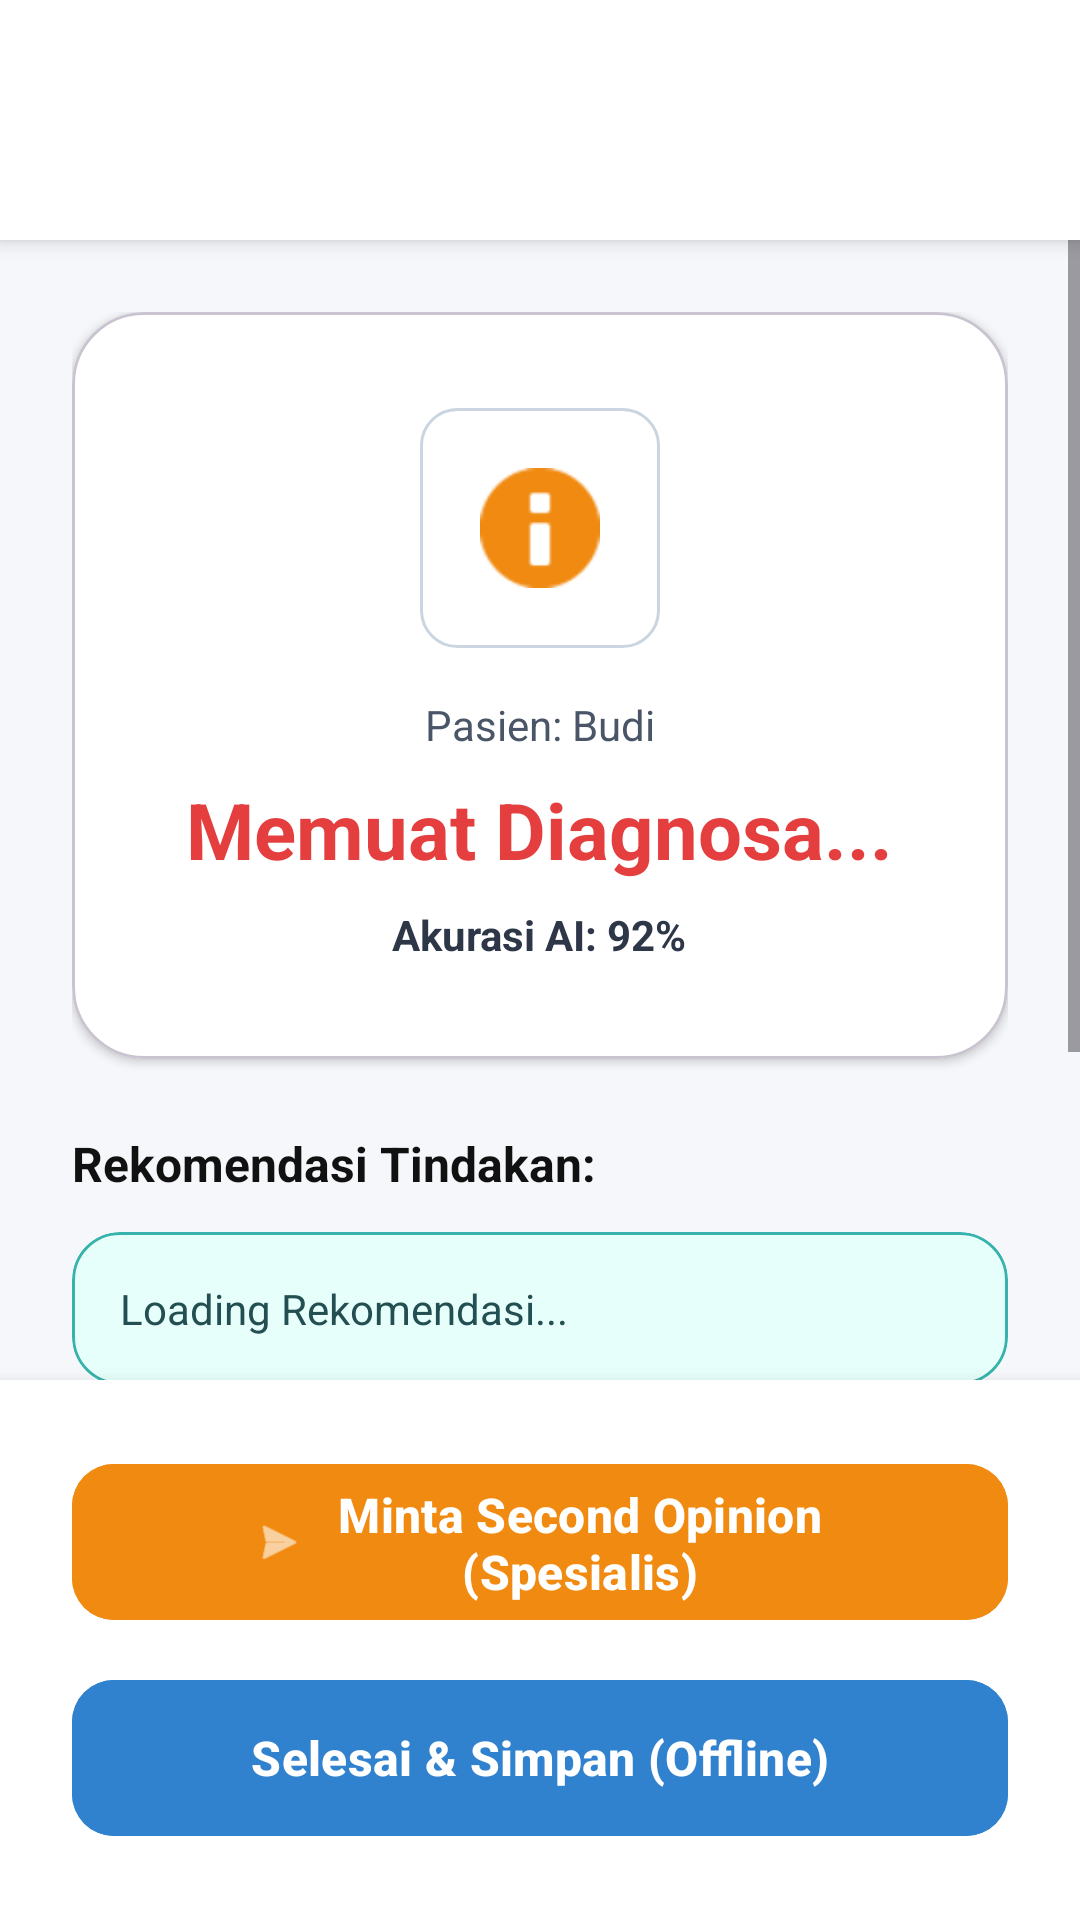

Point at icon controls on the screen. Image size 1080*1920, points as [x,y].
info: [540,528]
